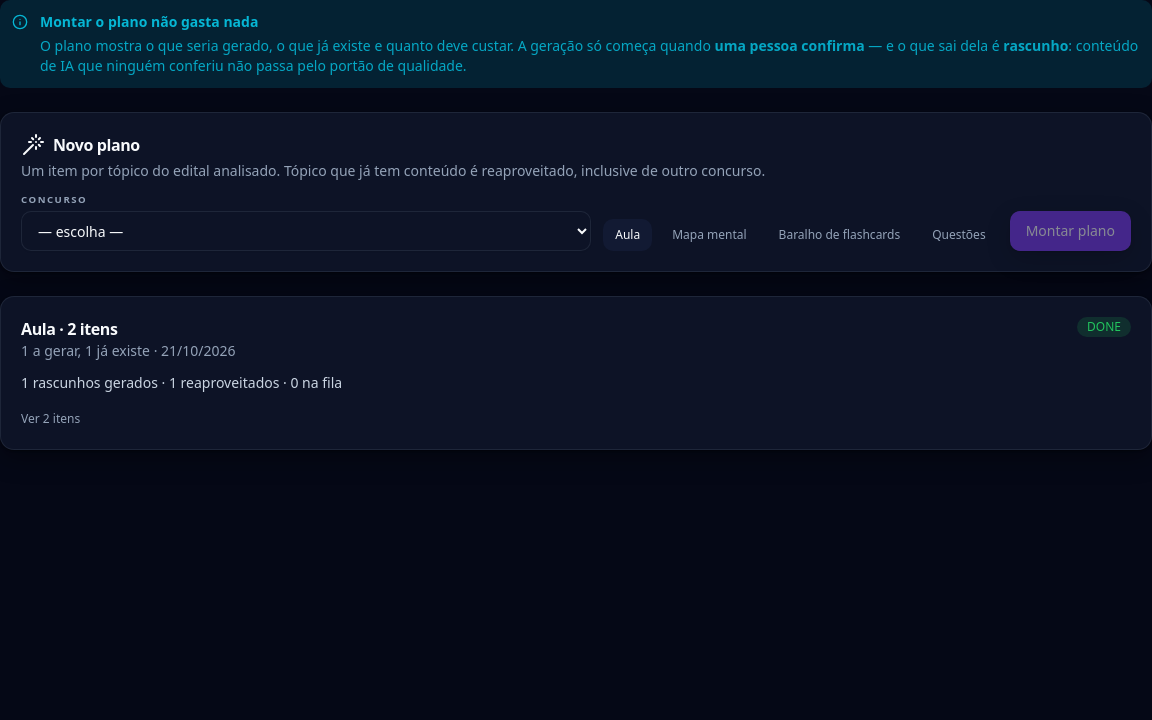
Test: GenerationSection › o reaproveitado aparece com nome próprio, separado do gerado
Click the button "Ver 2 itens" at (51, 419), box [21,411,80,427]
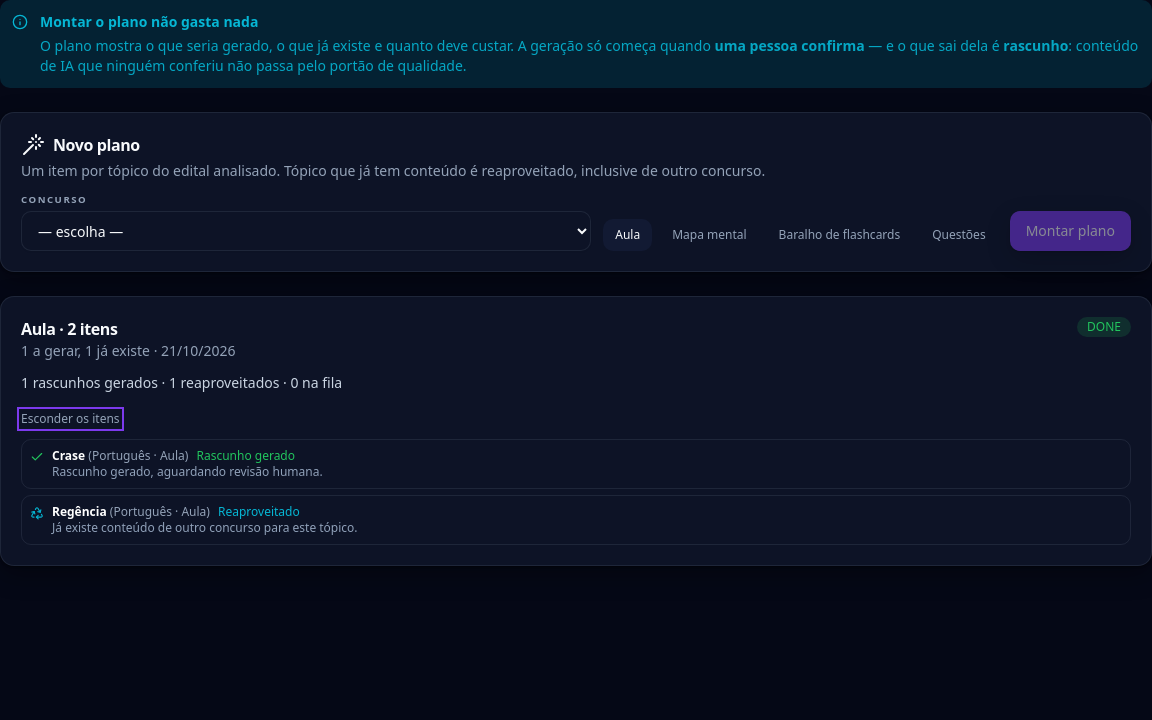
Expected: the text "outro concurso" is shown, [21,161,765,180]
Expected: the text "Rascunho gerado" is shown, [196,447,295,464]
Expected: the text "Reaproveitado" is shown, [218,503,300,520]
